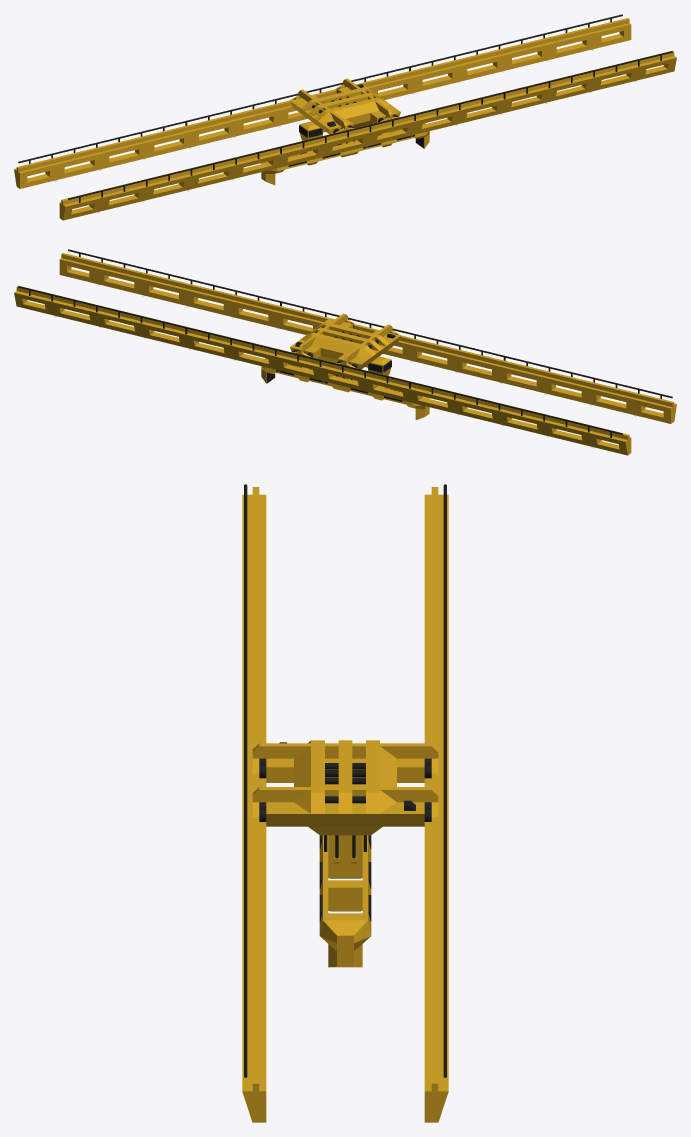
File: crane.fbx
3 renders of one model, top to bottom at view 1: azimuth 30°, elevation 25°; view 2: azimuth 150°, elevation 25°; view 3: azimuth 270°, elevation 25°, orthographic. The views are drawn at different scales.
Visible parts, largest first — view 1: Rail1, Rail2, Crane, Railing.001, Railing; view 2: Rail2, Rail1, Crane, Railing, Railing.001; view 3: Crane, Rail2, Rail1, Railing.001, Railing, Clamp2, Pipes.
Part boxes in pixels (bbox=[...]): Rail1: bbox=[14, 18, 631, 188]; Rail2: bbox=[59, 50, 676, 220]; Crane: bbox=[275, 78, 426, 173]; Railing.001: bbox=[68, 51, 672, 202]; Railing: bbox=[18, 14, 622, 163]; Rail2: bbox=[59, 253, 676, 423]; Rail1: bbox=[14, 285, 631, 455]; Crane: bbox=[264, 313, 415, 408]; Railing: bbox=[18, 286, 622, 437]; Railing.001: bbox=[68, 249, 672, 398]; Crane: bbox=[252, 740, 438, 934]; Rail2: bbox=[242, 487, 266, 1122]; Rail1: bbox=[424, 487, 448, 1122]; Railing.001: bbox=[244, 484, 247, 1077]; Railing: bbox=[443, 484, 446, 1077]; Clamp2: bbox=[319, 920, 371, 967]; Pipes: bbox=[279, 742, 415, 858].
Bounding box in the file's own units: 8200 × 840 × 1200.
